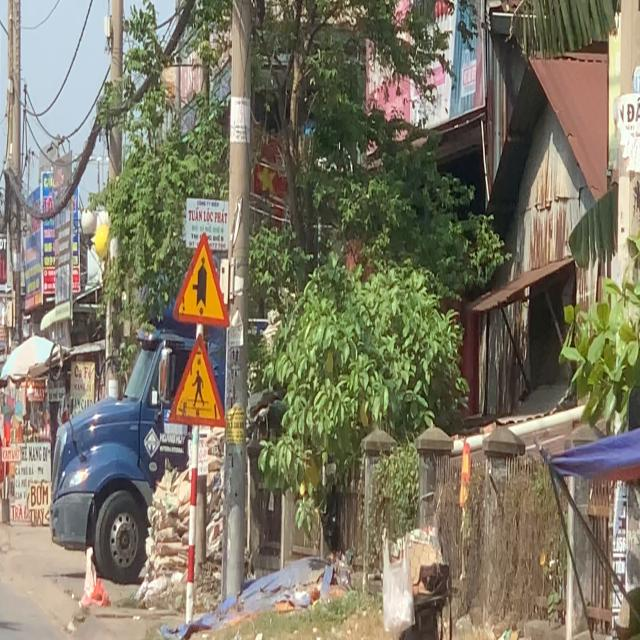Giao voi duong khong uu tien: (172, 232, 231, 330)
Nguoi di bo cat ngang: (168, 332, 227, 428)
